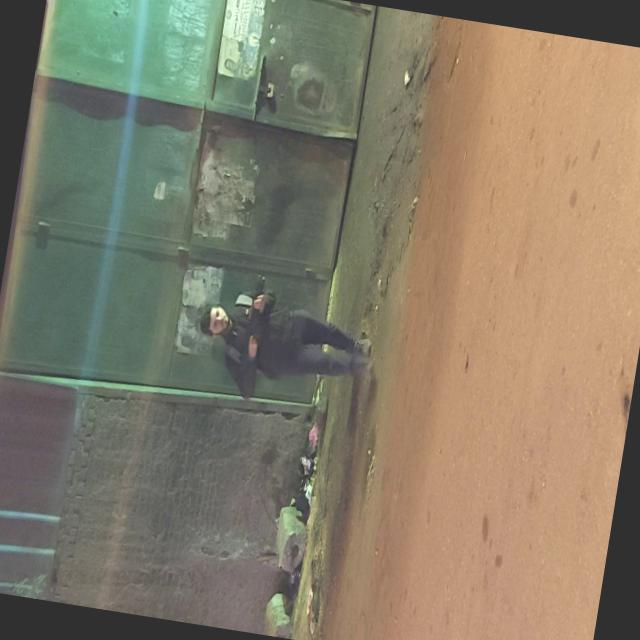long weapon: (226, 253, 282, 420)
